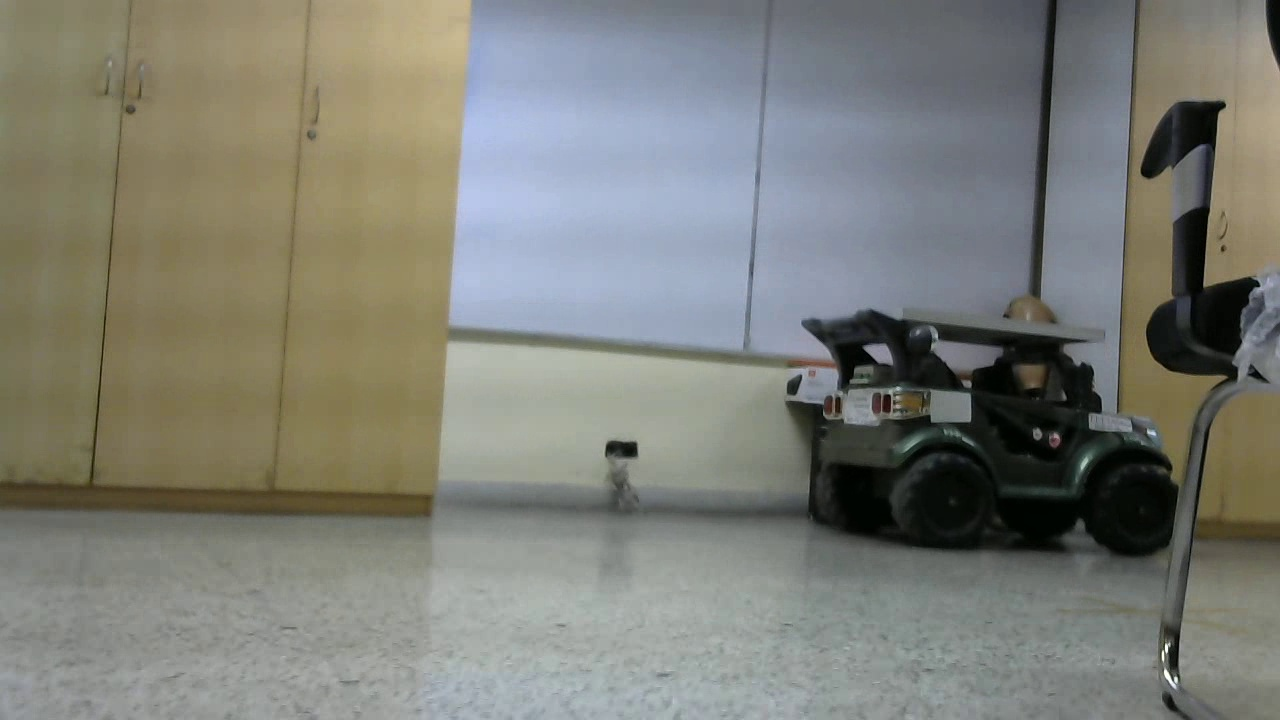chair: (548, 79, 820, 634)
